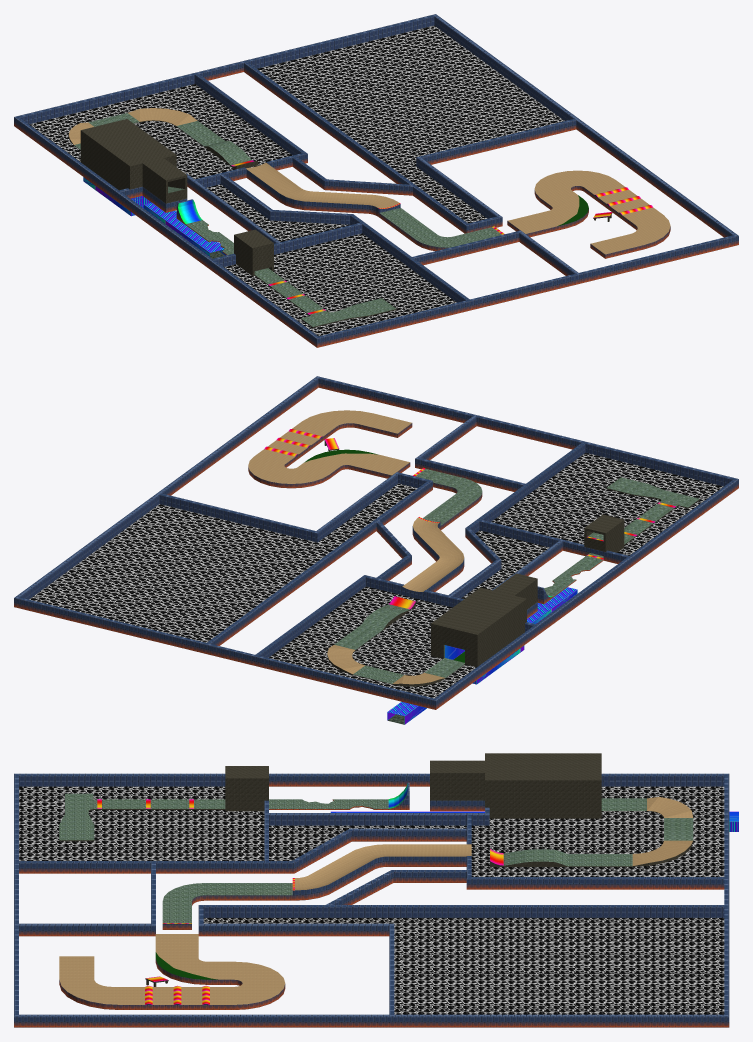
3 views of the same model, one above another, from view 1: azimuth 30°, elevation 25°; view 2: azimuth 150°, elevation 25°; view 3: azimuth 270°, elevation 25° (orthographic). The views are drawn at different scales.
Parts seen in each view (by area): view 1: course_model_SKP__Water.006, course_model_SKP__Wall_3.001, course_model_SKP__Wall_2.001, course_model_SKP__Road_4.001, course_model_SKP__Road_A.001, course_model_SKP__Road_1.001, course_model_SKP__Wall.001, course_model_SKP__Road.002, course_model_SKP__Wall_1.001, course_model_SKP__Boost_Red.001, course_model_SKP__Sticky_Road_0x16_6.001; view 2: course_model_SKP__Water.006, course_model_SKP__Wall_3.001, course_model_SKP__Wall_2.001, course_model_SKP__Road_4.001, course_model_SKP__Road_A.001, course_model_SKP__Road_1.001, course_model_SKP__Wall.001, course_model_SKP__Road.002, course_model_SKP__Wall_1.001, course_model_SKP__Boost_Red.001, course_model_SKP__Sticky_Road_0x16_6.001; view 3: course_model_SKP__Water.006, course_model_SKP__Wall_3.001, course_model_SKP__Road_4.001, course_model_SKP__Wall_2.001, course_model_SKP__Road_A.001, course_model_SKP__Wall.001, course_model_SKP__Road_1.001, course_model_SKP__Road.002, course_model_SKP__Boost_Red.001, course_model_SKP__Sticky_Road_0x16_6.001, course_model_SKP__Wall_1.001.
Part boxes in pixels (<box>): course_model_SKP__Water.006: <box>29,25,564,336</box>; course_model_SKP__Wall_3.001: <box>14,63,738,347</box>; course_model_SKP__Wall_2.001: <box>20,16,573,302</box>; course_model_SKP__Road_4.001: <box>14,14,738,338</box>; course_model_SKP__Road_A.001: <box>68,108,670,254</box>; course_model_SKP__Road_1.001: <box>74,113,501,326</box>; course_model_SKP__Wall.001: <box>68,120,612,327</box>; course_model_SKP__Road.002: <box>81,119,273,248</box>; course_model_SKP__Wall_1.001: <box>83,177,226,256</box>; course_model_SKP__Boost_Red.001: <box>231,160,652,314</box>; course_model_SKP__Sticky_Road_0x16_6.001: <box>204,141,251,165</box>; course_model_SKP__Water.006: <box>29,453,723,698</box>; course_model_SKP__Wall_3.001: <box>14,378,738,709</box>; course_model_SKP__Wall_2.001: <box>20,443,732,657</box>; course_model_SKP__Road_4.001: <box>14,376,738,700</box>; course_model_SKP__Road_A.001: <box>248,410,464,684</box>; course_model_SKP__Road_1.001: <box>334,469,699,683</box>; course_model_SKP__Wall.001: <box>324,440,699,686</box>; course_model_SKP__Road.002: <box>431,514,623,634</box>; course_model_SKP__Wall_1.001: <box>387,587,577,724</box>; course_model_SKP__Boost_Red.001: <box>264,429,675,609</box>; course_model_SKP__Sticky_Road_0x16_6.001: <box>362,604,409,629</box>; course_model_SKP__Water.006: <box>19,786,724,1014</box>; course_model_SKP__Wall_3.001: <box>14,776,729,1027</box>; course_model_SKP__Road_4.001: <box>14,773,729,1016</box>; course_model_SKP__Wall_2.001: <box>19,776,724,917</box>; course_model_SKP__Road_A.001: <box>59,797,693,1004</box>; course_model_SKP__Wall.001: <box>59,773,693,986</box>; course_model_SKP__Road_1.001: <box>59,793,693,923</box>; course_model_SKP__Road.002: <box>225,753,601,780</box>; course_model_SKP__Boost_Red.001: <box>97,799,503,1004</box>; course_model_SKP__Sticky_Road_0x16_6.001: <box>503,849,567,865</box>; course_model_SKP__Wall_1.001: <box>330,811,738,831</box>.
Size of what is drawn, in the model's own units: 95510 by 11006 by 120461.
Materials: 16 (15 with a texture image).
